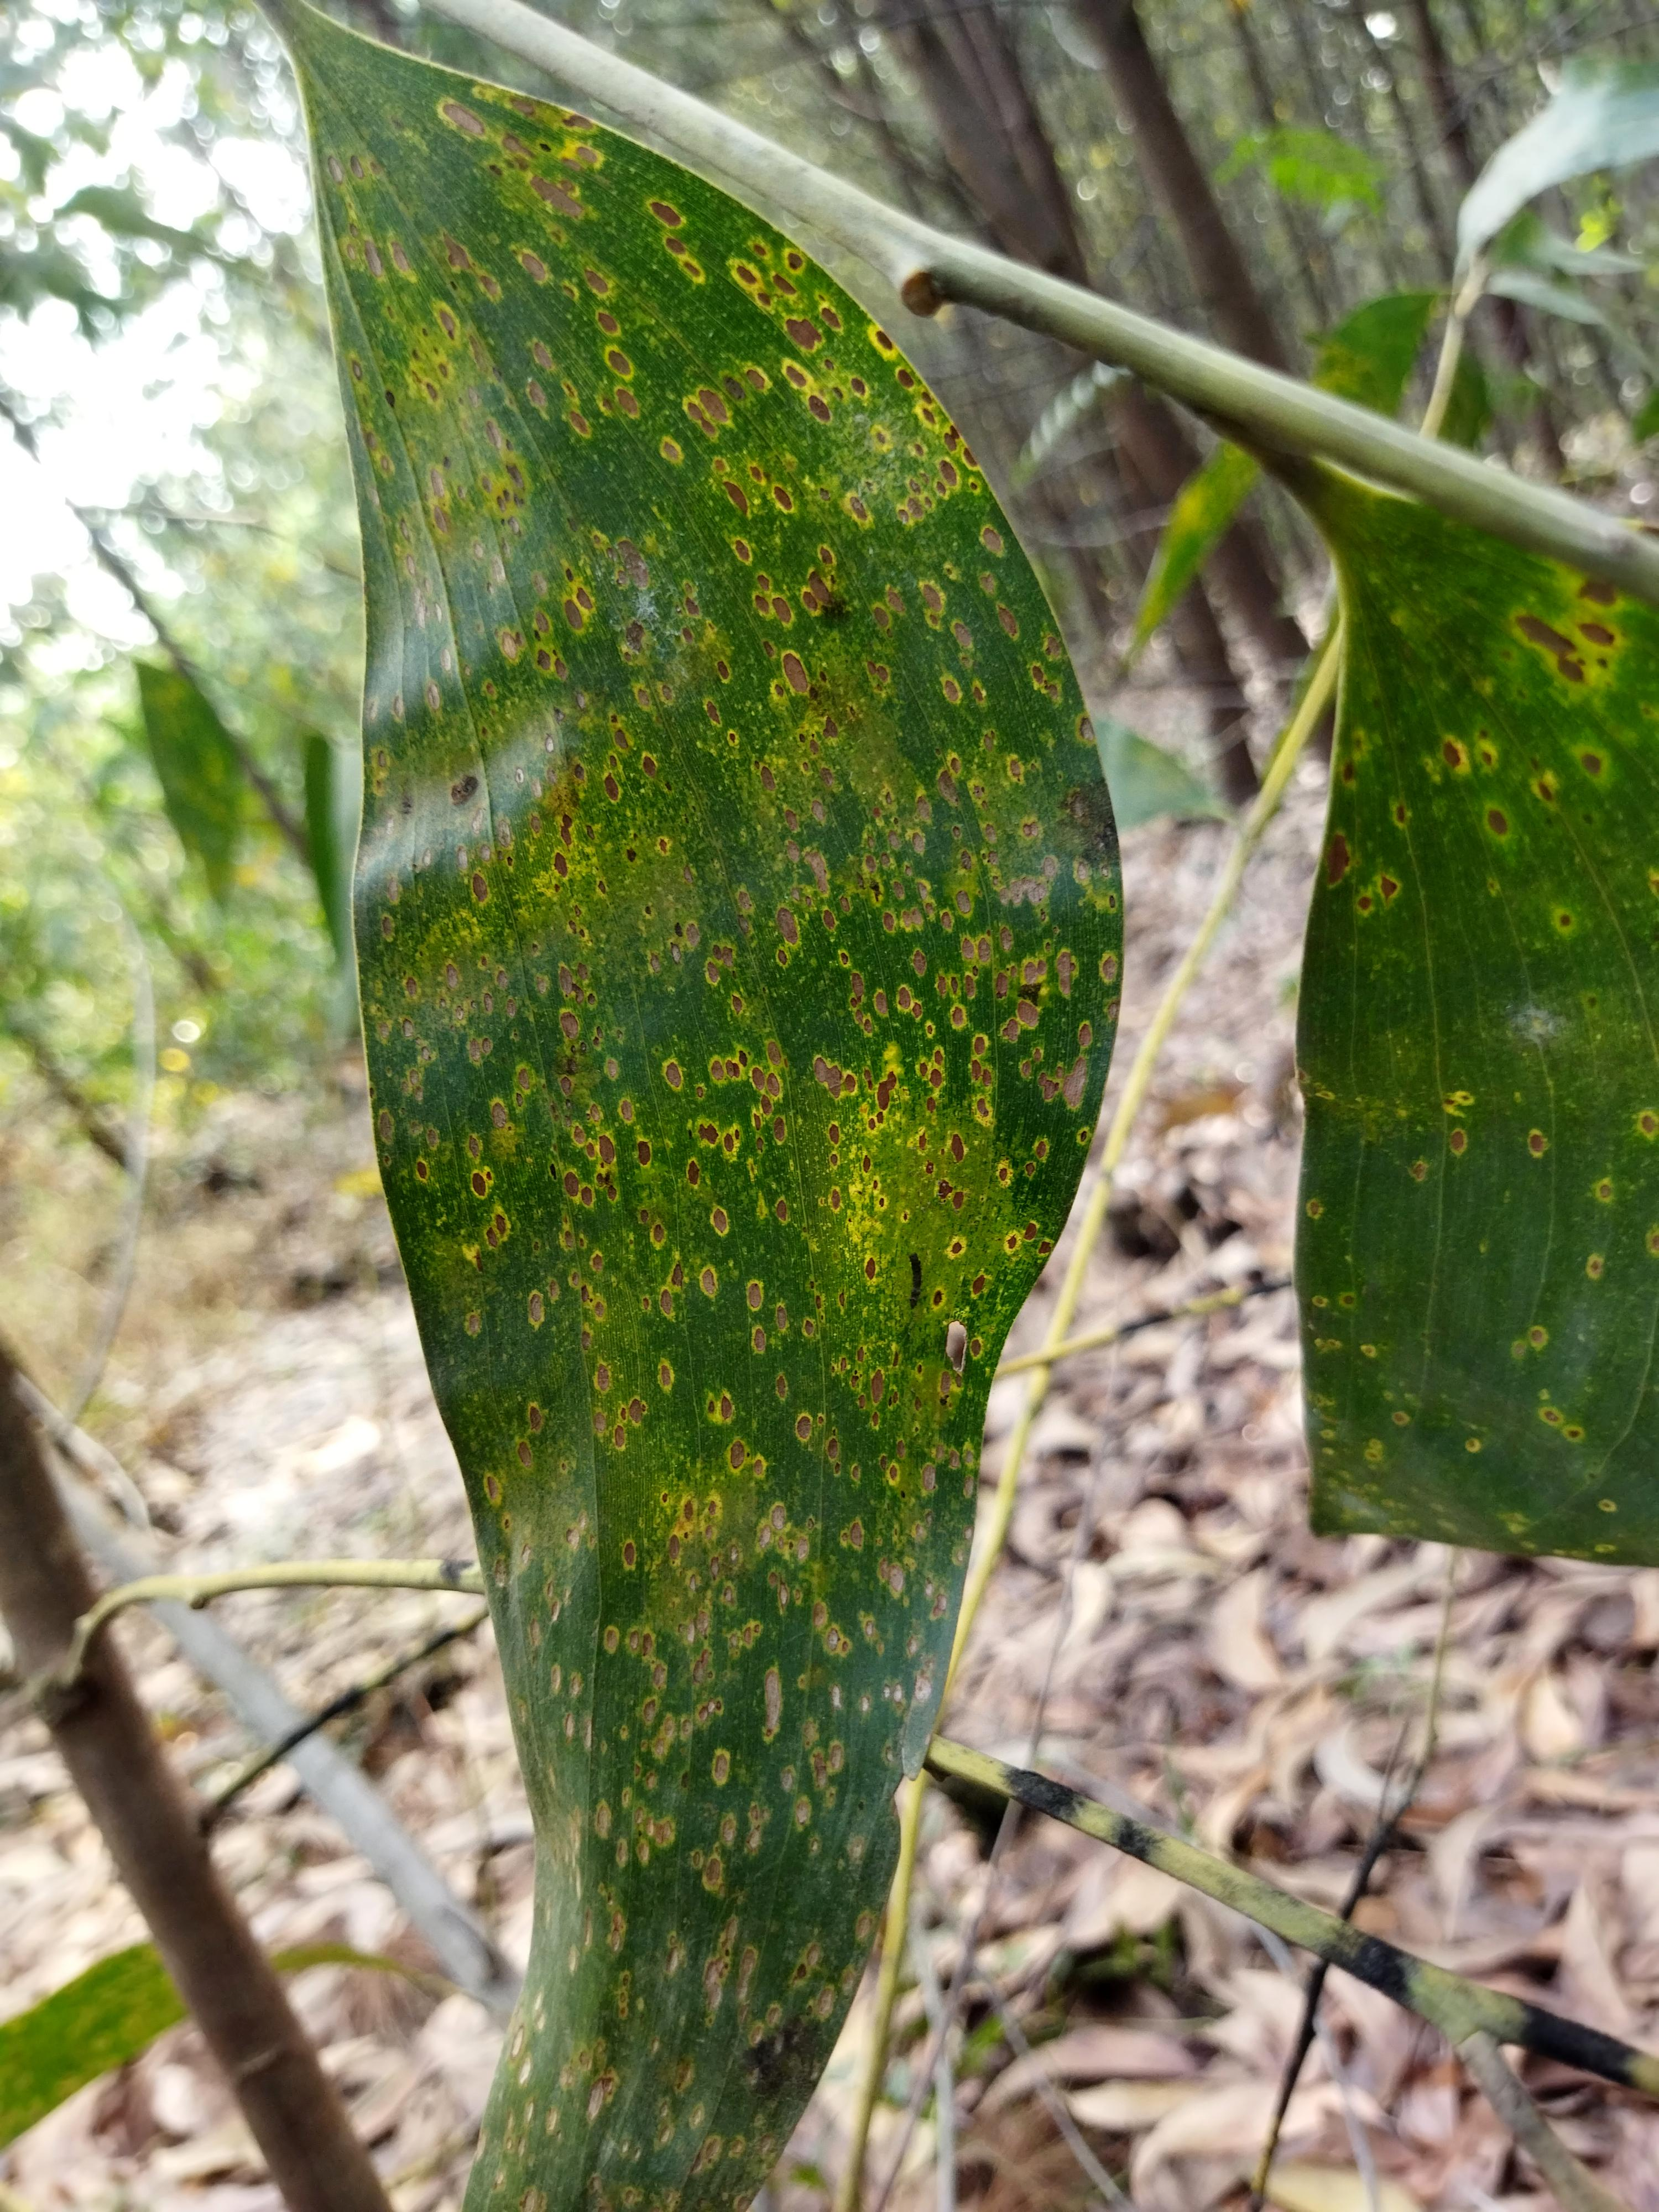Xanthomonas: (267, 56, 1000, 2203)
